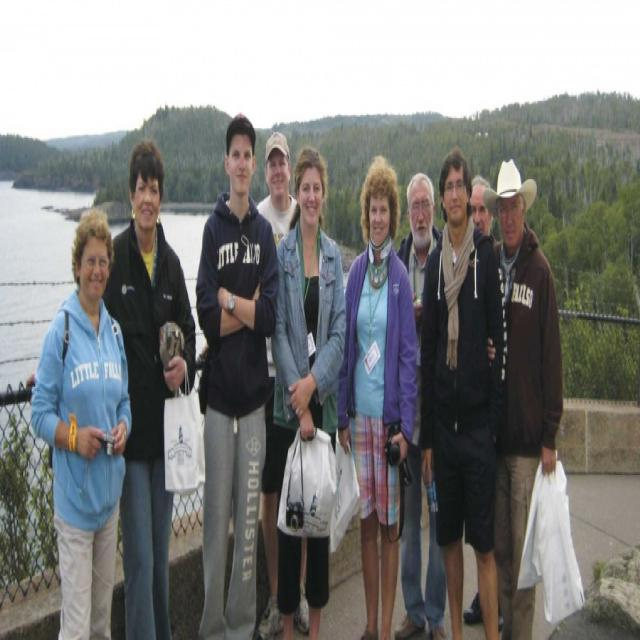body: (416, 142, 511, 639), (104, 138, 200, 629), (194, 110, 282, 638), (27, 204, 132, 638), (480, 158, 566, 638), (336, 152, 420, 640), (267, 141, 348, 638), (254, 129, 311, 640), (392, 170, 449, 640), (461, 172, 505, 636)
